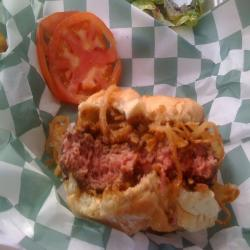burger: (44, 90, 237, 239)
